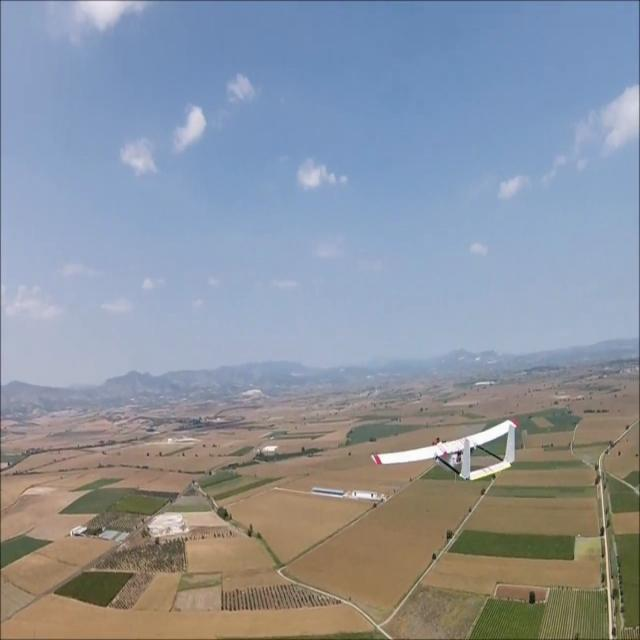iha: (376, 450, 521, 455)
